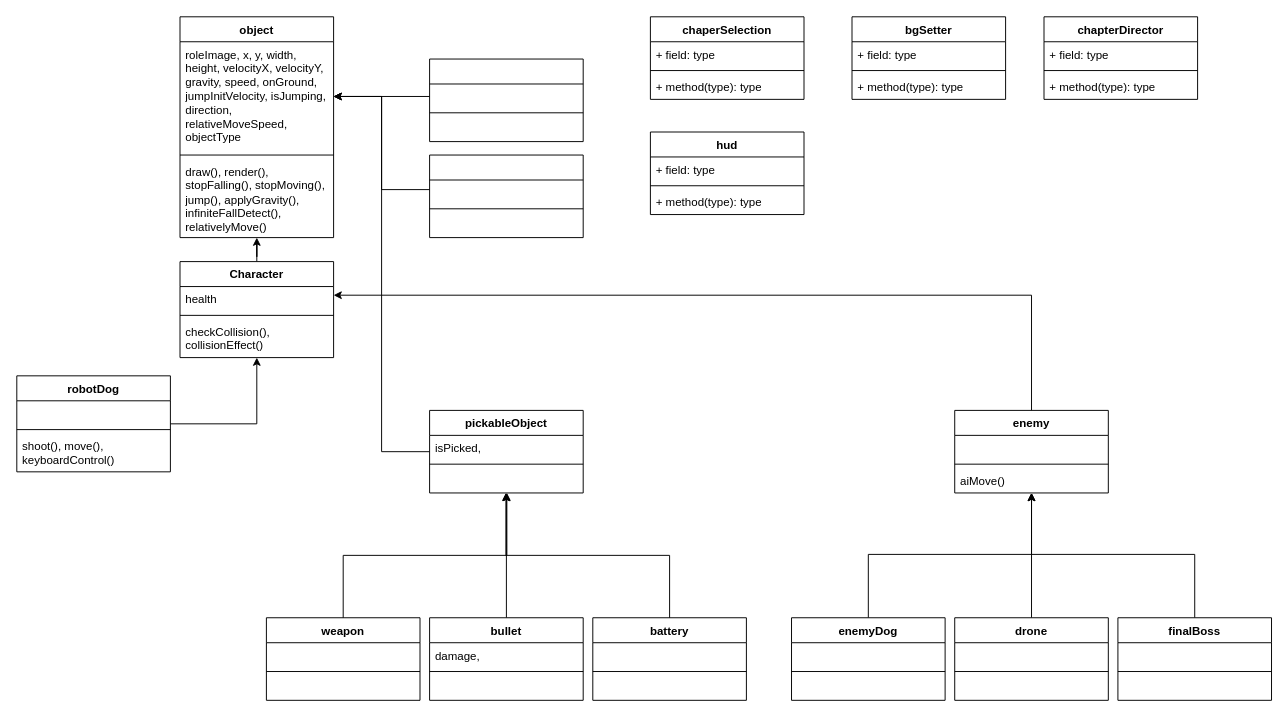
Some shapes in this 1288 by 720 pixel diagram are drawn without their labels. The shapes that lost their labels are listed below. From the top down, each one's centre as x and y in pixels, then its label:
[506,100]: platform
[506,196]: passGate
